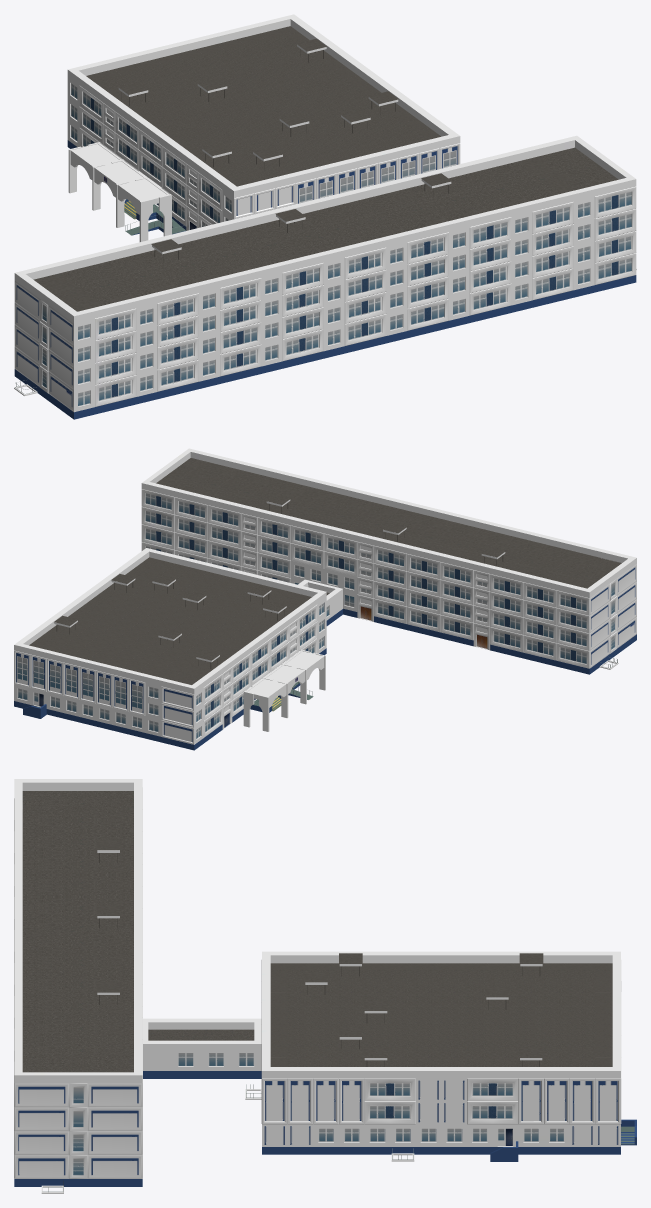
The model's file is nasa.glb.
3 renders of one model, top to bottom at view 1: azimuth 30°, elevation 25°; view 2: azimuth 150°, elevation 25°; view 3: azimuth 270°, elevation 25°, orthographic. The views are drawn at different scales.
Visible parts, largest first — view 1: Object_4, Object_7, Object_10, Object_9, Object_6, Object_3; view 2: Object_4, Object_7, Object_10, Object_9, Object_5, Object_6, Object_3; view 3: Object_7, Object_4, Object_5, Object_9, Object_6, Object_3.
Boxes of the visible parts, x1,y1,x2,y2 form: Object_4: (14,135,636,419); Object_7: (67,14,460,230); Object_10: (68,142,171,241); Object_9: (118,38,451,262); Object_6: (14,44,636,396); Object_3: (124,199,186,235); Object_4: (141,448,636,674); Object_7: (14,548,326,750); Object_10: (243,649,325,731); Object_9: (54,495,505,668); Object_5: (298,579,342,625); Object_6: (54,499,618,669); Object_3: (23,681,313,718); Object_7: (261,951,621,1154); Object_4: (14,779,142,1186); Object_5: (143,1018,261,1078); Object_9: (97,839,543,1066); Object_6: (41,850,542,1193); Object_3: (490,1119,636,1161).
Size of the model in its own units: 2.6 by 0.4606 by 2.21.
Materials: 8 (6 with a texture image).
